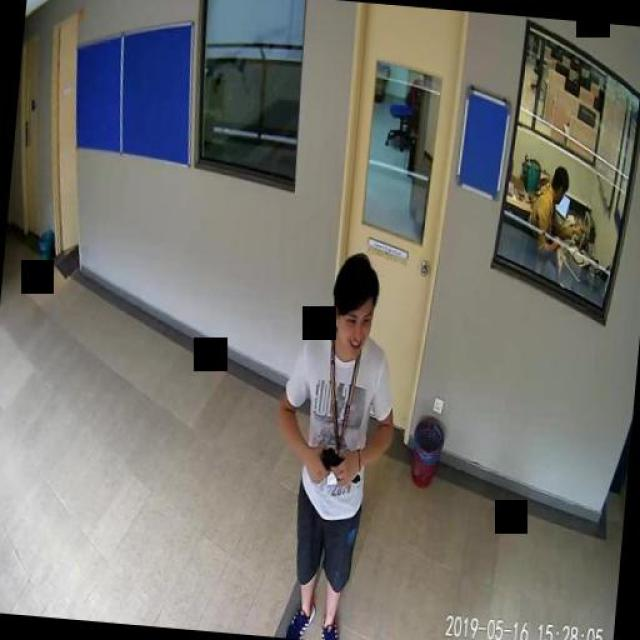gun: (318, 445, 360, 484)
